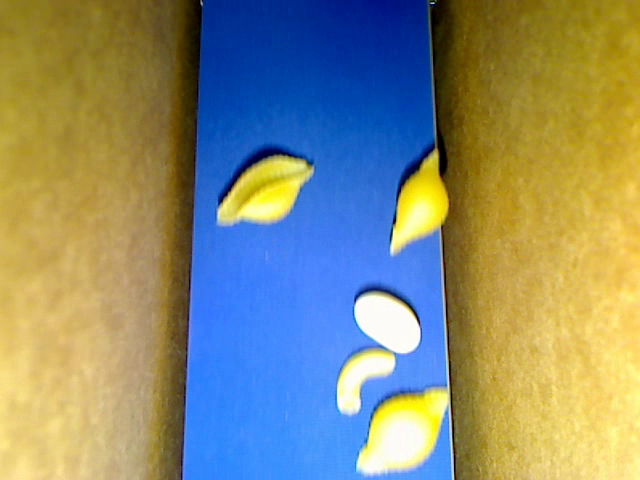elbow: (336, 347, 396, 415)
shell: (356, 386, 449, 474), (216, 156, 315, 226), (391, 149, 449, 254)
